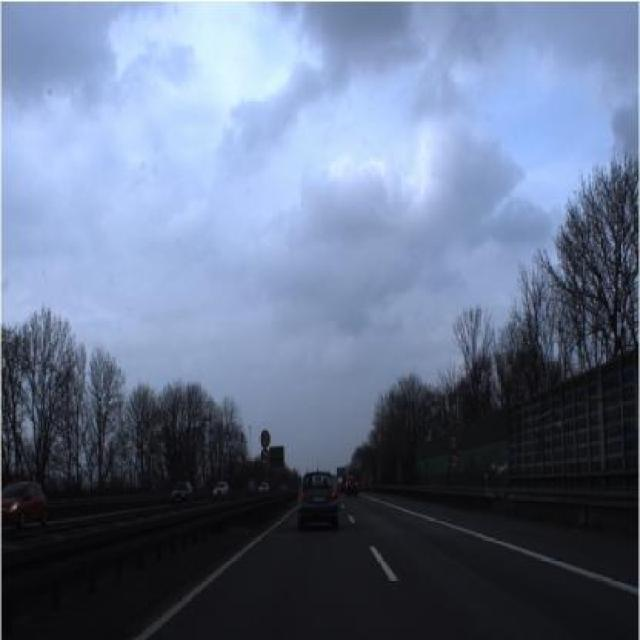forb_speed_over_120: (258, 427, 274, 448), (448, 433, 462, 453)
